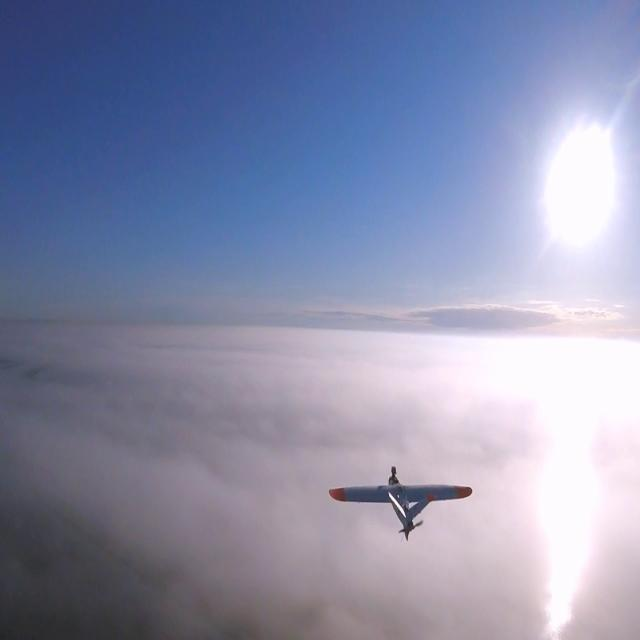iha: (329, 496, 473, 514)
